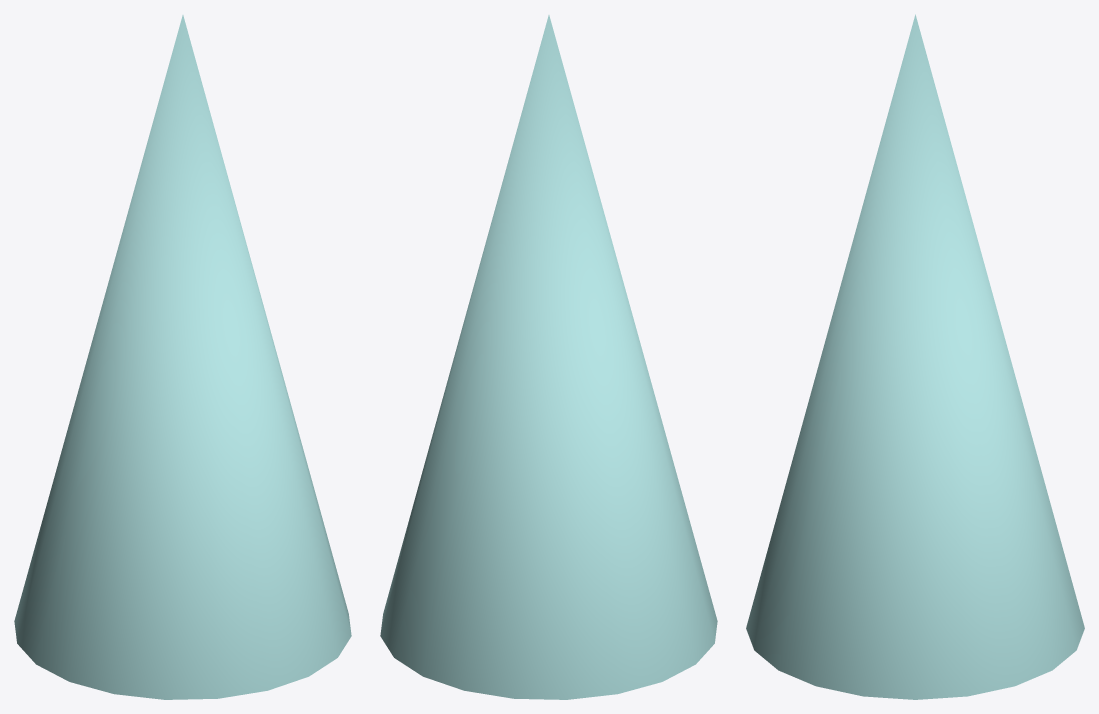
Rendered from 3D_Compass.fbx.
3 views of the same model, side by side, from view 1: azimuth 30°, elevation 25°; view 2: azimuth 150°, elevation 25°; view 3: azimuth 270°, elevation 25° (orthographic).
Parts seen in each view (by area): view 1: pCone1; view 2: pCone1; view 3: pCone1.
Part boxes in pixels (<box>): pCone1: <box>14,15,351,699</box>; pCone1: <box>380,15,717,699</box>; pCone1: <box>746,14,1084,699</box>.
Size of the model in its own units: 2 by 4 by 2.
